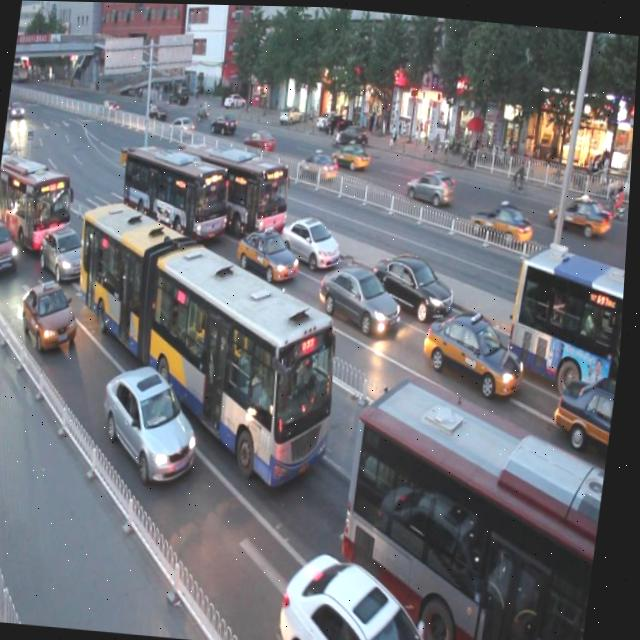car: (281, 543, 456, 640), (98, 357, 211, 484), (422, 299, 535, 400), (317, 252, 408, 336), (374, 242, 463, 317), (554, 364, 622, 445), (19, 278, 88, 357), (235, 216, 305, 283), (278, 203, 346, 270), (39, 223, 97, 284), (0, 215, 27, 277)
van: (55, 191, 362, 487), (335, 370, 619, 640), (507, 235, 629, 385), (117, 133, 238, 249), (176, 131, 299, 239), (0, 144, 79, 244)
